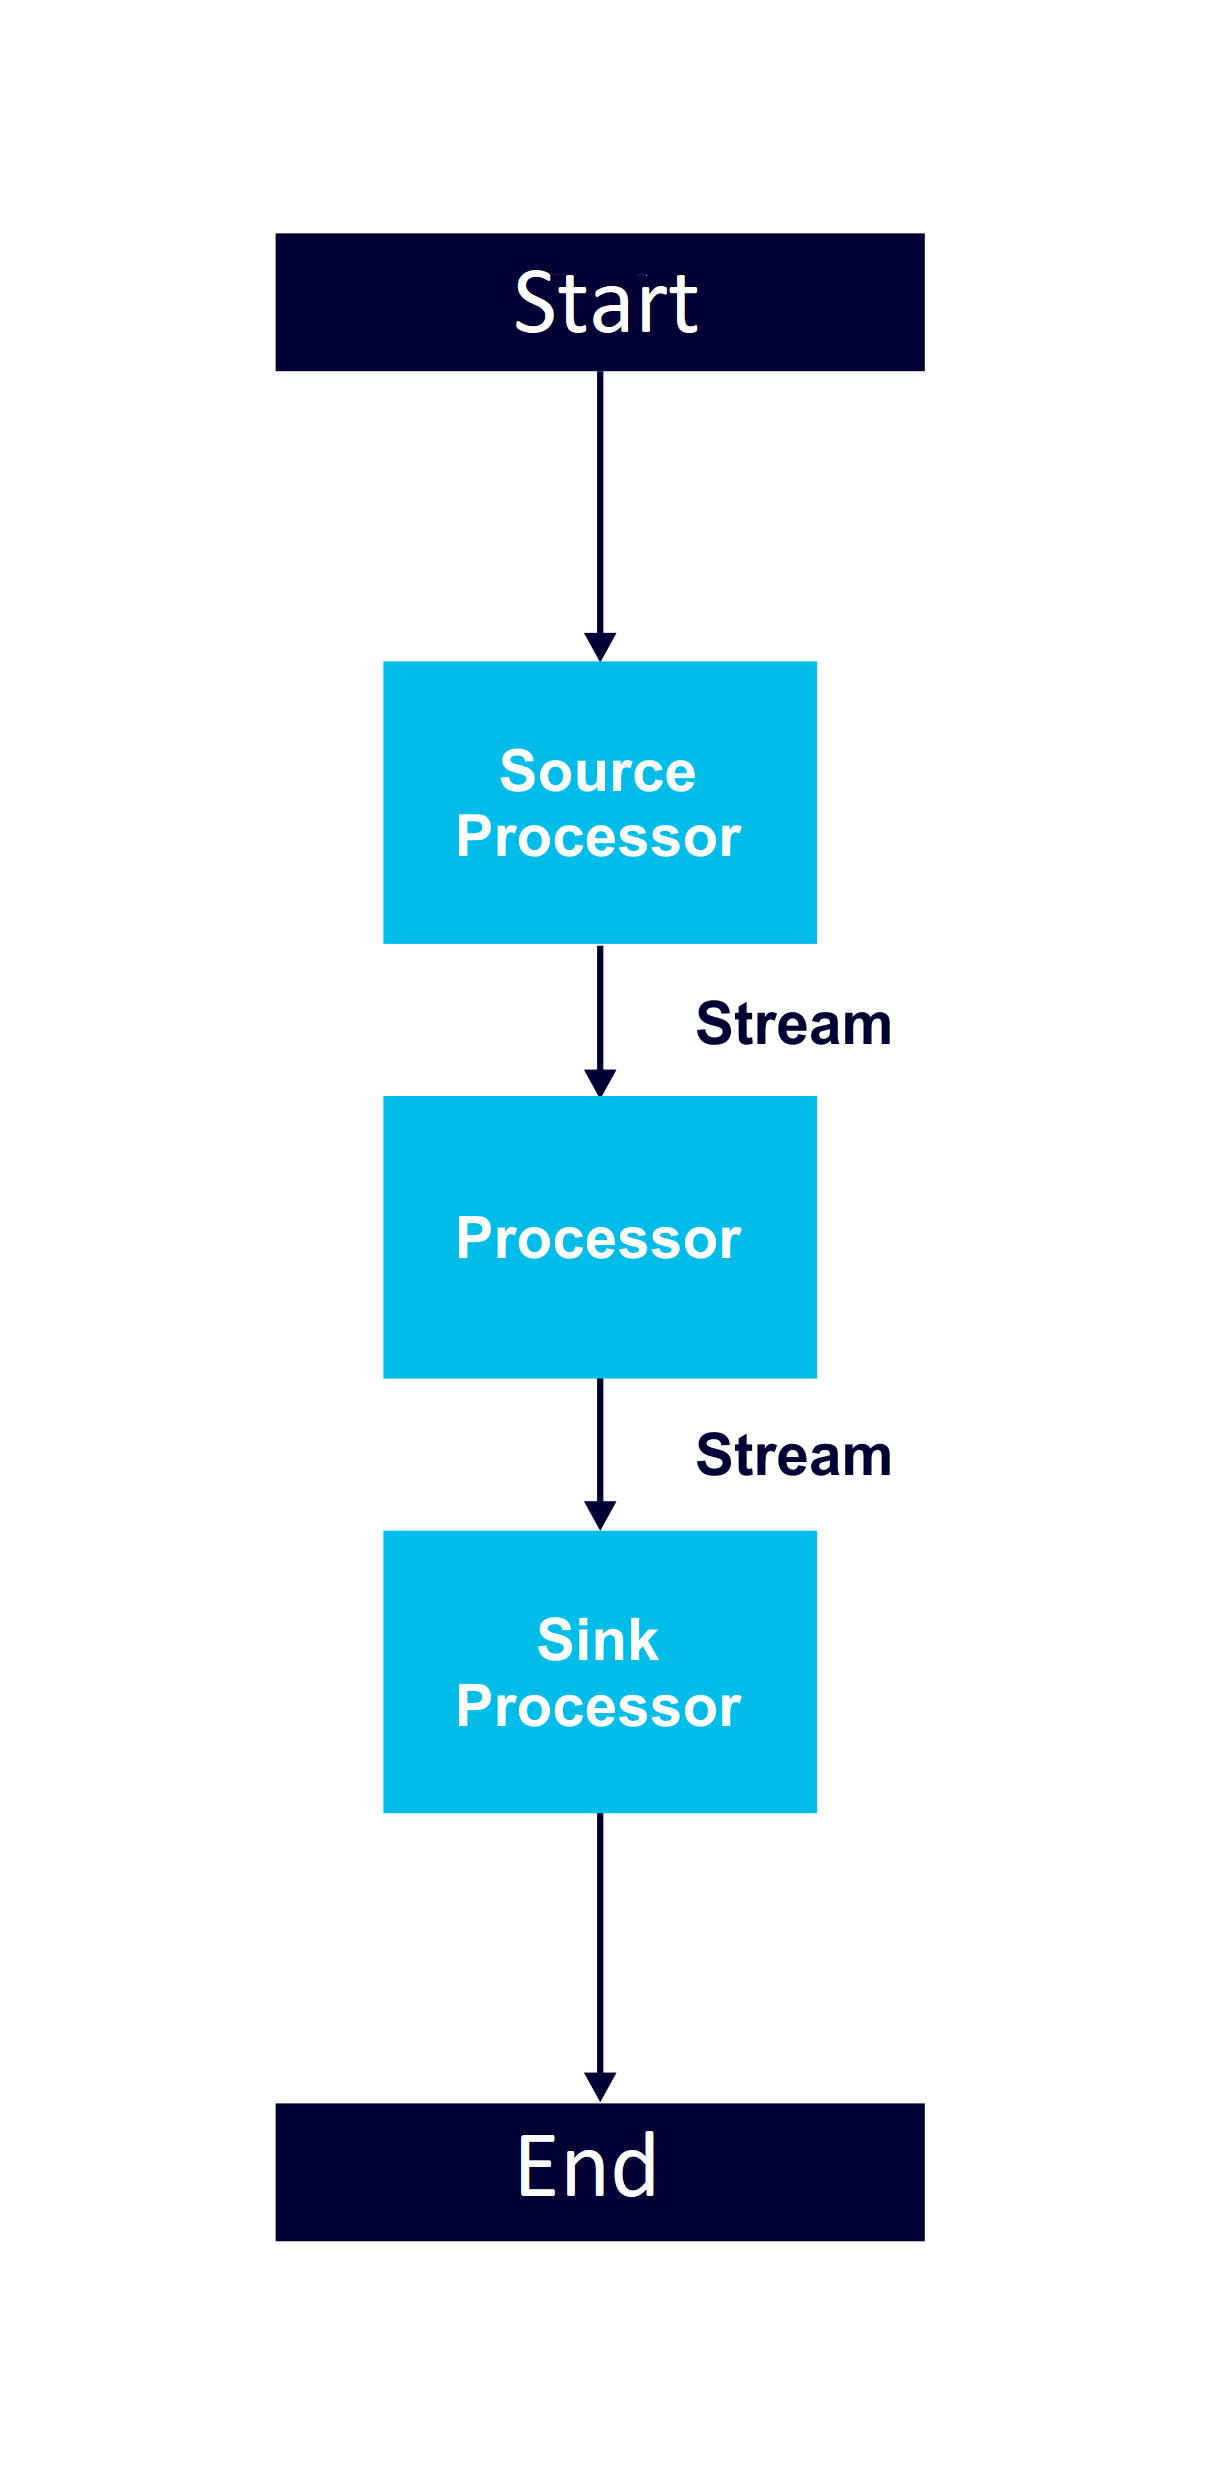arrow: (573, 1810, 631, 2091), (578, 355, 627, 668), (565, 1372, 635, 1529), (578, 941, 619, 1110)
process: (369, 1514, 827, 1822), (369, 1086, 835, 1386), (369, 652, 827, 952), (262, 218, 939, 384), (265, 2091, 939, 2257)
text: (450, 1606, 758, 1742), (450, 737, 750, 868), (447, 1199, 747, 1273), (500, 2118, 672, 2214), (508, 261, 720, 336), (690, 987, 900, 1060), (690, 1423, 900, 1491)
